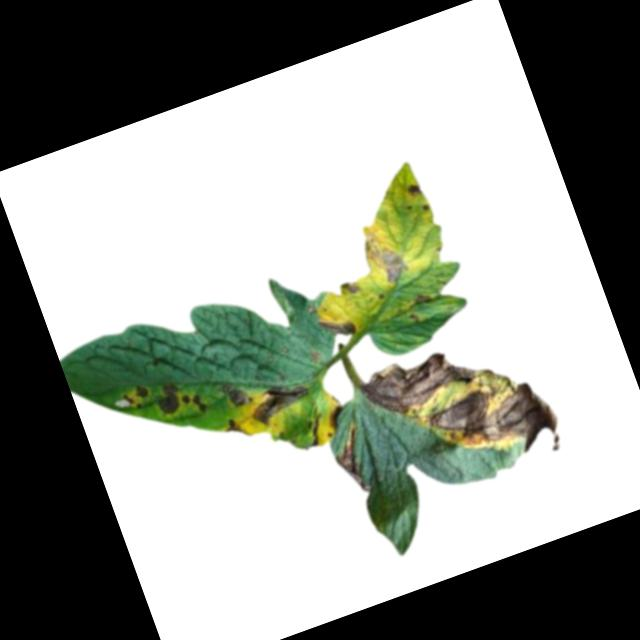Early_blight: (413, 371, 569, 492), (355, 330, 499, 432), (245, 375, 317, 432), (327, 425, 376, 499), (358, 228, 411, 292), (316, 309, 359, 347), (148, 378, 186, 420), (217, 377, 255, 415), (217, 413, 251, 447), (118, 382, 152, 415), (321, 401, 351, 433), (180, 388, 208, 418), (407, 287, 434, 311), (399, 178, 424, 203), (338, 279, 361, 299)
